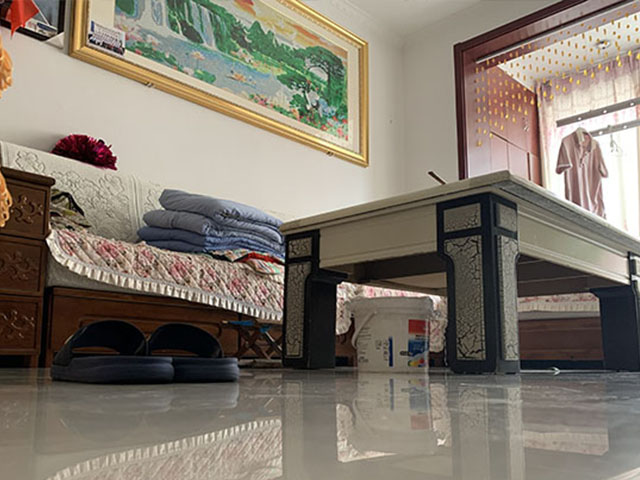slippers: (48, 320, 172, 384), (148, 323, 238, 382)
sofa: (1, 139, 301, 375)
stool: (221, 318, 283, 370)
table: (277, 169, 640, 375)
